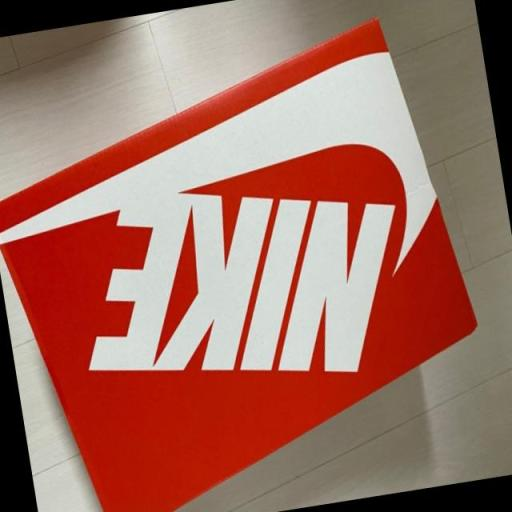Nike: (64, 160, 425, 433)
